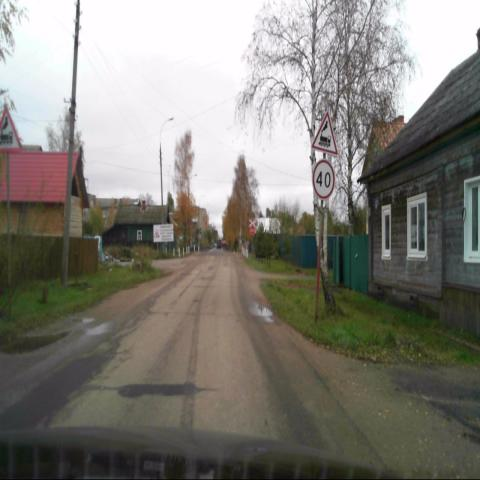1_2: (311, 111, 339, 157), (0, 106, 21, 156)
